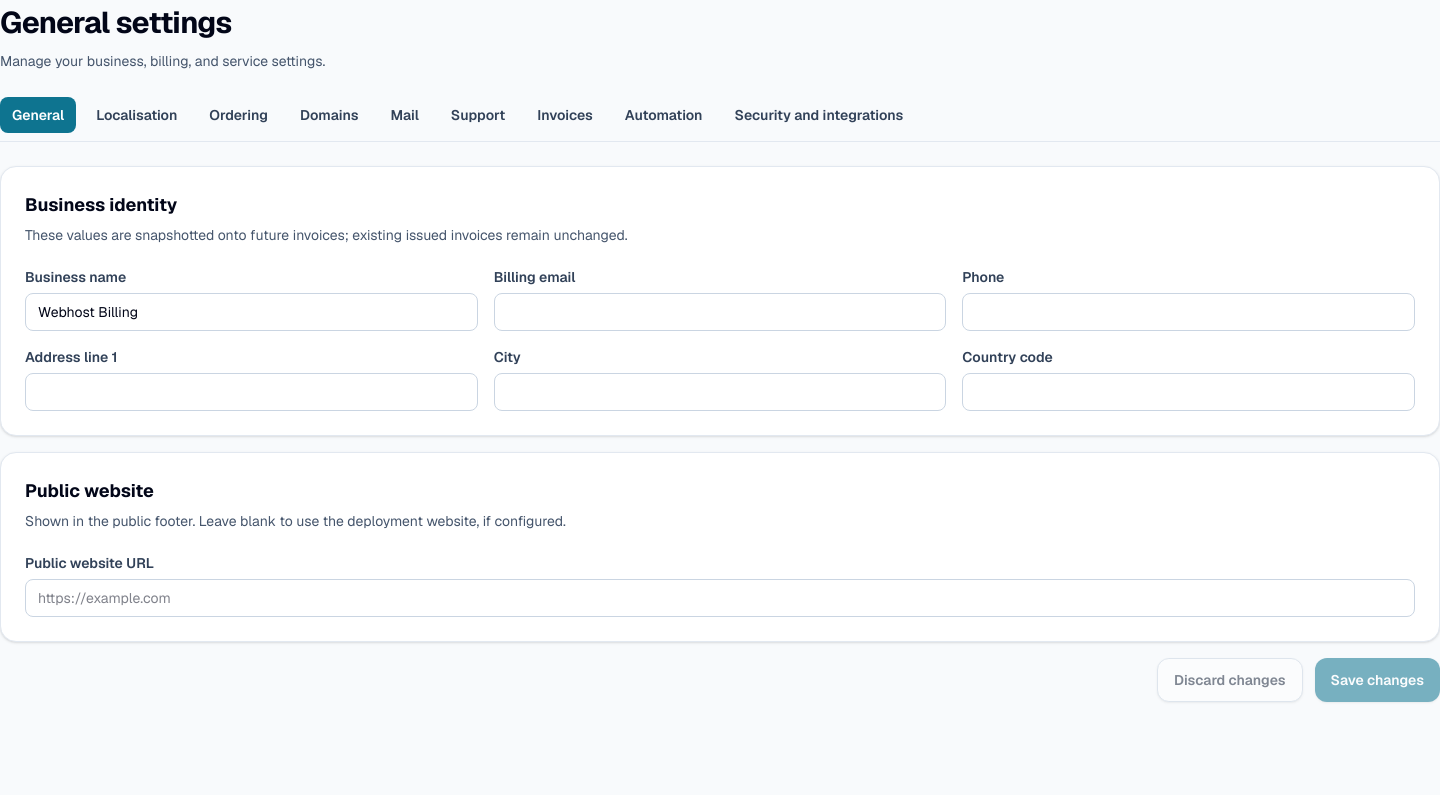
Test: settings manager › reviews and confirms a change from saved true before updating the baseline
This screenshot has width=1440, height=795.
What coordinates should you click on to do the following:
click the tab "Invoices"
I would click on:
 (565, 115)
Its box is [525,97,605,133].
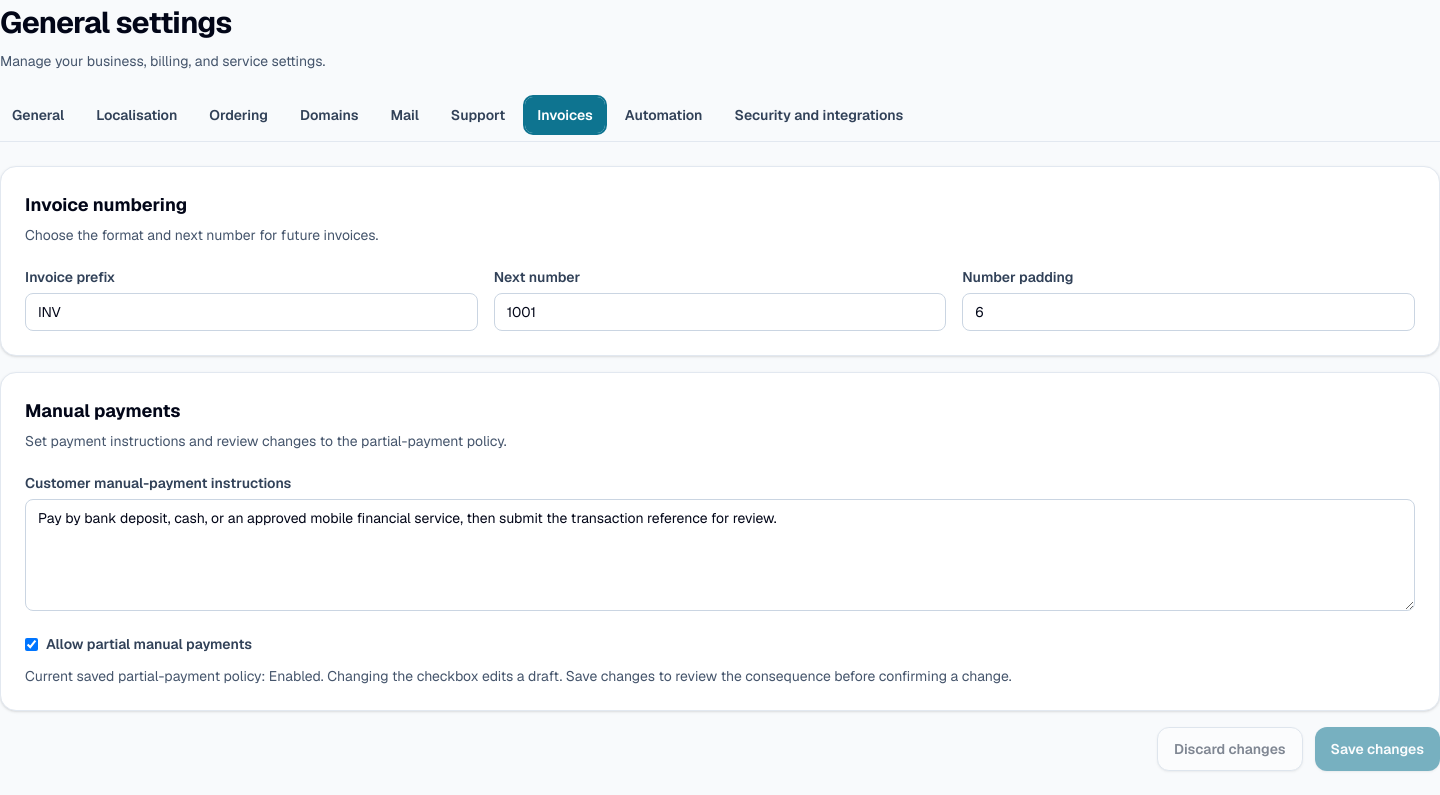
What coordinates should you click on to do the following:
click the checkbox labelled "Allow partial manual payments"
I would click on:
 (32, 644)
Its box is [25,638,38,650].
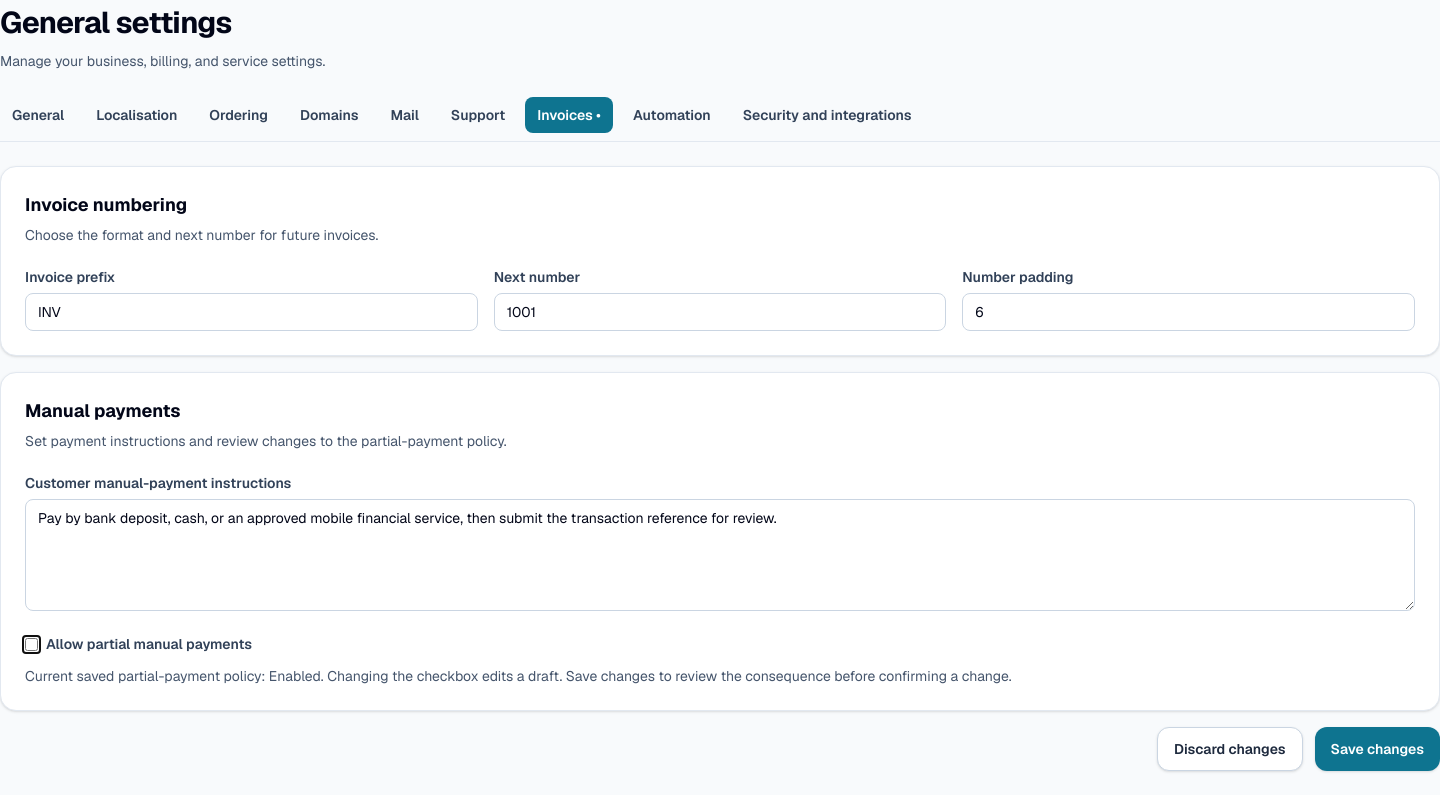
What coordinates should you click on to do the following:
click the button "Save changes"
I would click on:
 (1377, 749)
Its box is [1314,727,1439,771].
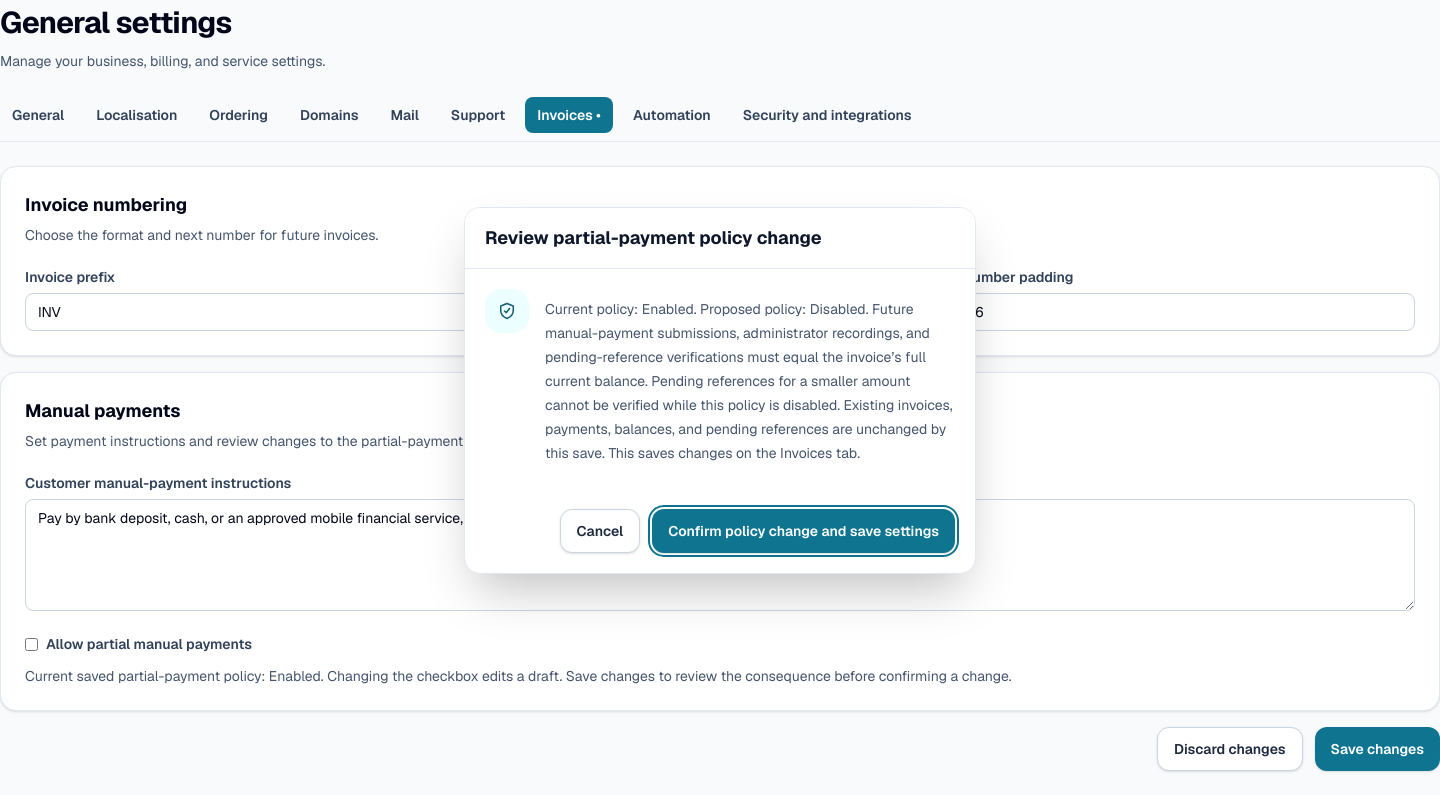
Expected: the dialog shows "pending-reference verifications", [545,300,952,462]
Expected: the dialog shows "full current balance", [545,300,952,462]
Expected: the dialog shows "Existing invoices, payments, balances, and pending references are unchanged", [545,300,952,462]
What coordinates should you click on to do the following:
click the button "Confirm policy change and save settings"
I would click on:
 (804, 530)
Its box is [652,508,955,552].
(page scrolled)
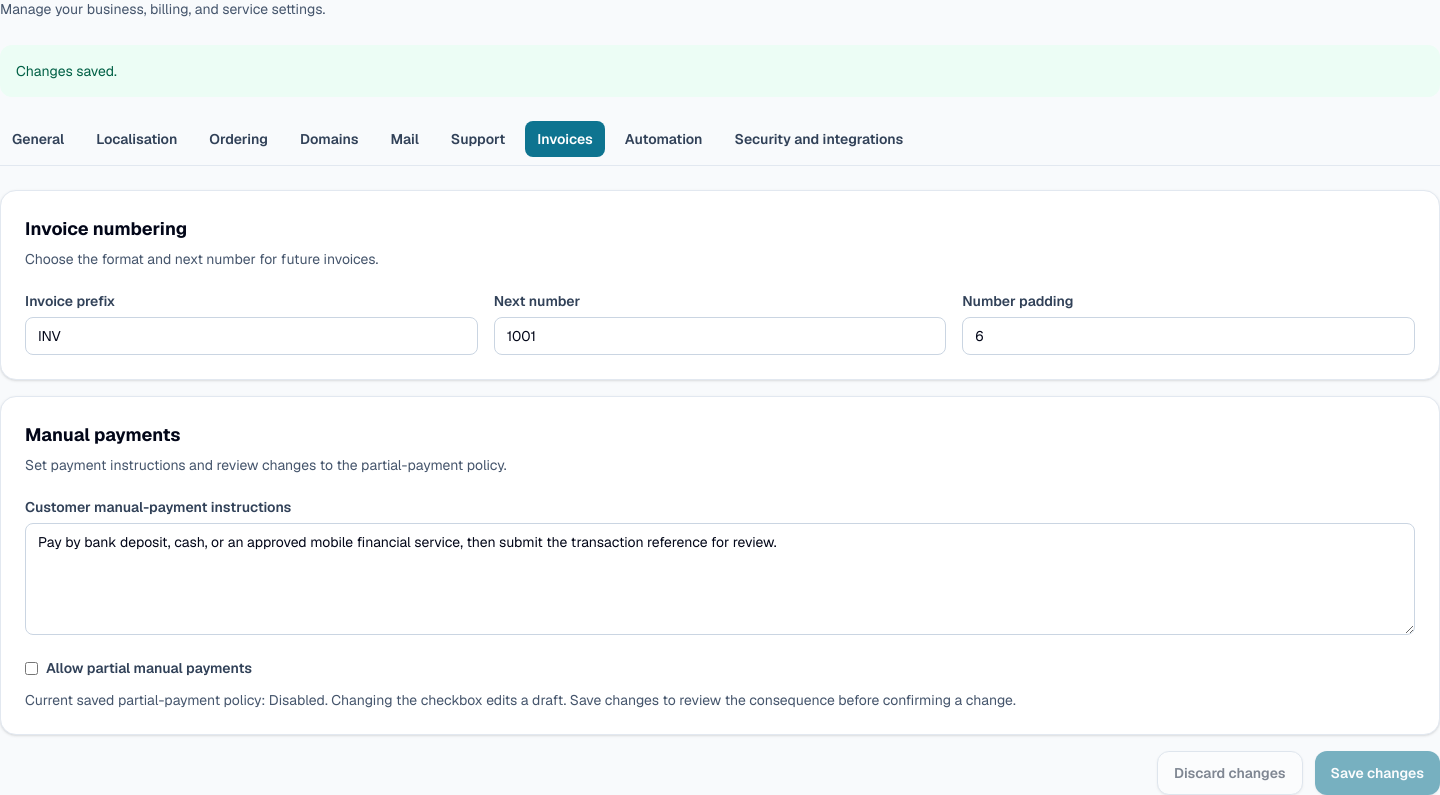
Expected: the message "Changes saved." is shown, [0,45,1439,97]
Expected: the dialog is gone
Expected: the button "Save changes" is disabled, [1314,751,1439,794]
